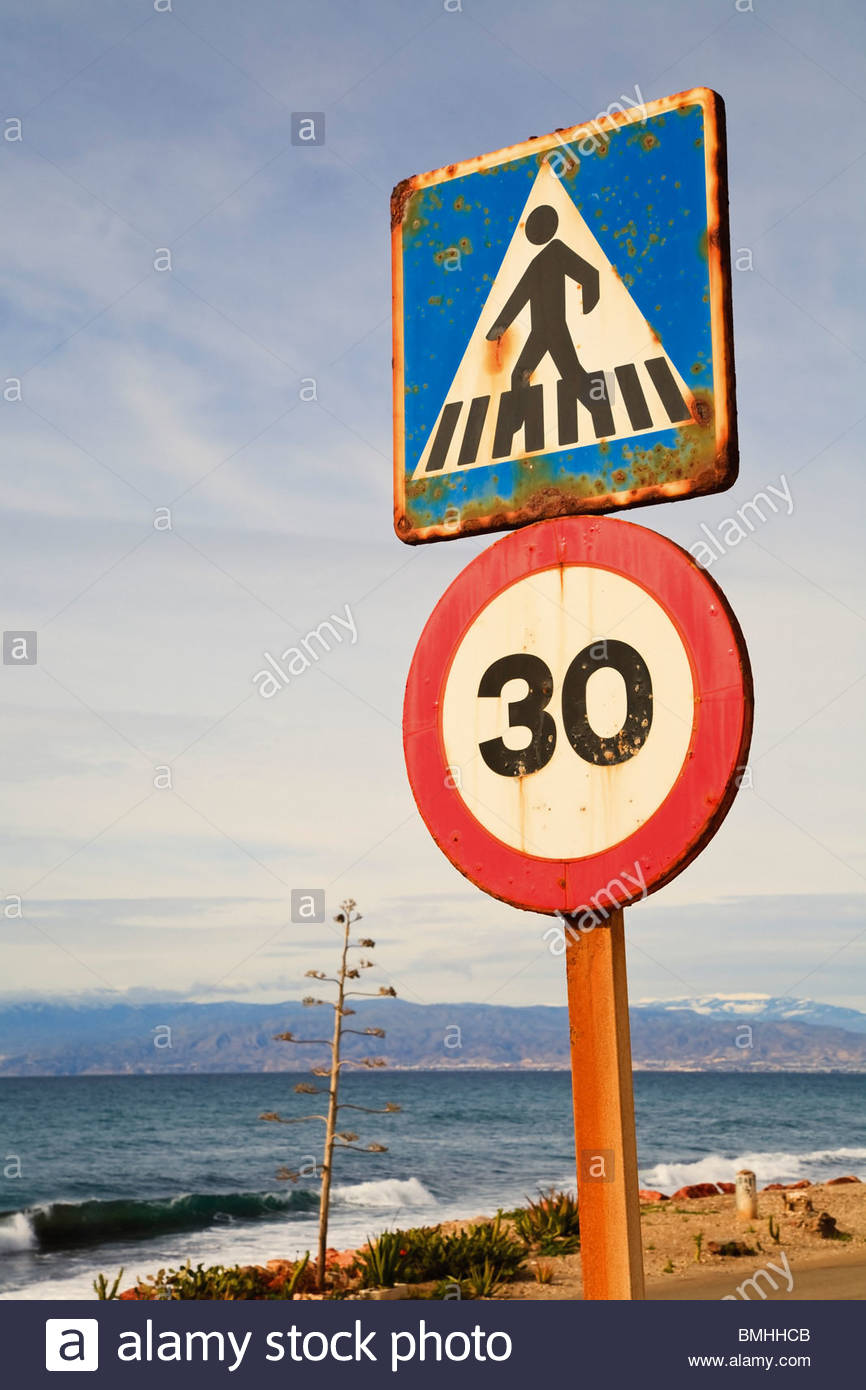speed_limit_30: (403, 516, 756, 914)
